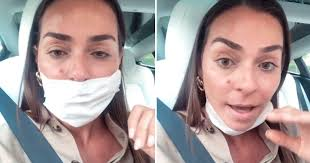mask_weared_incorrect: (199, 26, 285, 138), (34, 19, 124, 124)
